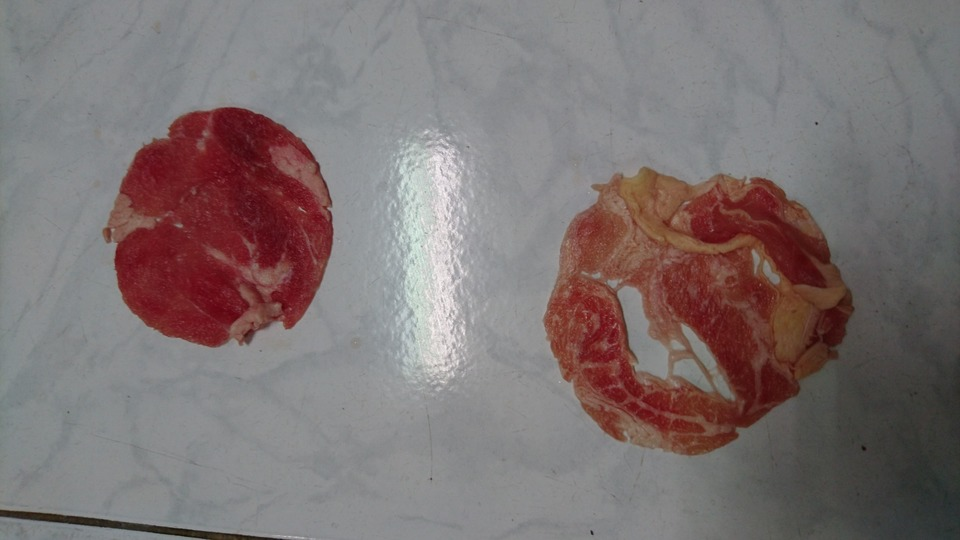restructured meat: (527, 149, 862, 453), (75, 72, 368, 373)
